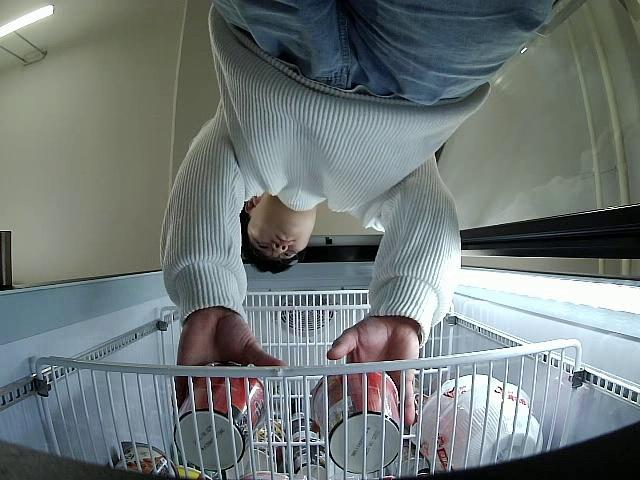00_hand: (174, 314, 285, 402), (324, 321, 418, 424)
02_shinRamen_S: (176, 361, 270, 471), (308, 366, 401, 471)
